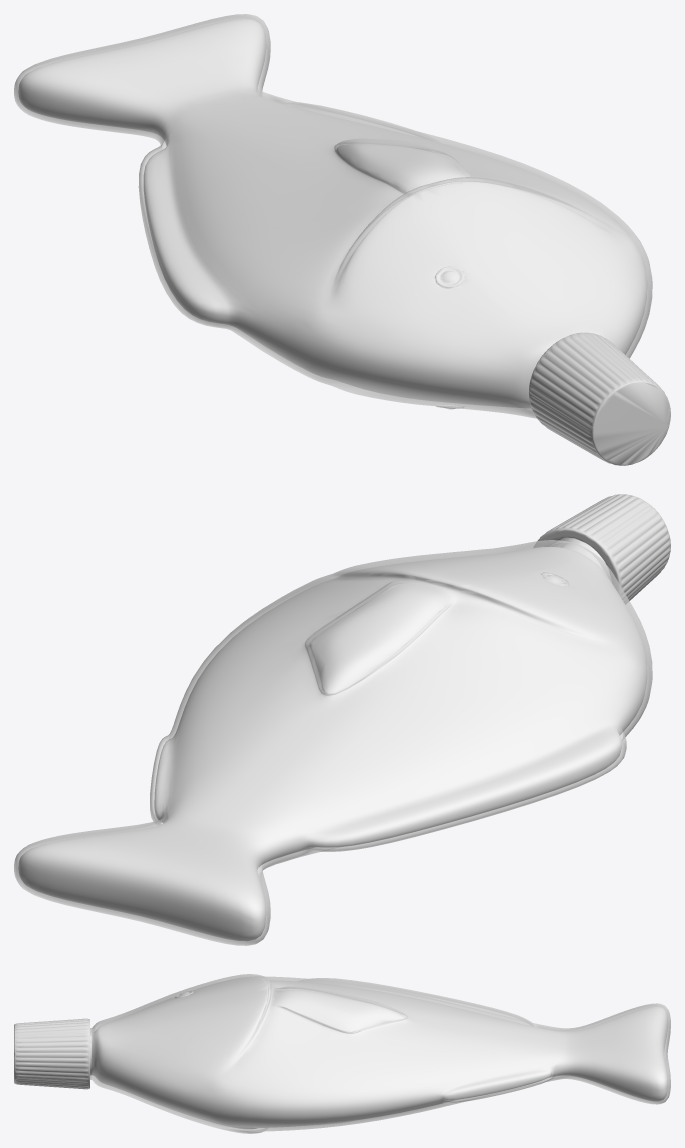
Rendered from soja-sauce-packaging.min.glb.
The picture shows the model from 3 angles, top to bottom: view 1: azimuth 30°, elevation 25°; view 2: azimuth 150°, elevation 25°; view 3: azimuth 270°, elevation 25°; orthographic projection. The views are drawn at different scales.
Parts seen in each view (by area): view 1: sauce10, sauce10.001; view 2: sauce10.001, sauce10; view 3: sauce10.001, sauce10.
Boxes of the visible parts, left/top/right/bottom form: sauce10: left=18, top=18, right=670, bottom=465; sauce10.001: left=14, top=14, right=652, bottom=418; sauce10.001: left=14, top=537, right=652, bottom=945; sauce10: left=18, top=494, right=670, bottom=941; sauce10.001: left=90, top=974, right=670, bottom=1133; sauce10: left=14, top=977, right=667, bottom=1129.
Bounding box in the file's own units: 0.1766 × 0.0832 × 0.3763.
Materials: 2 (1 with a texture image).
